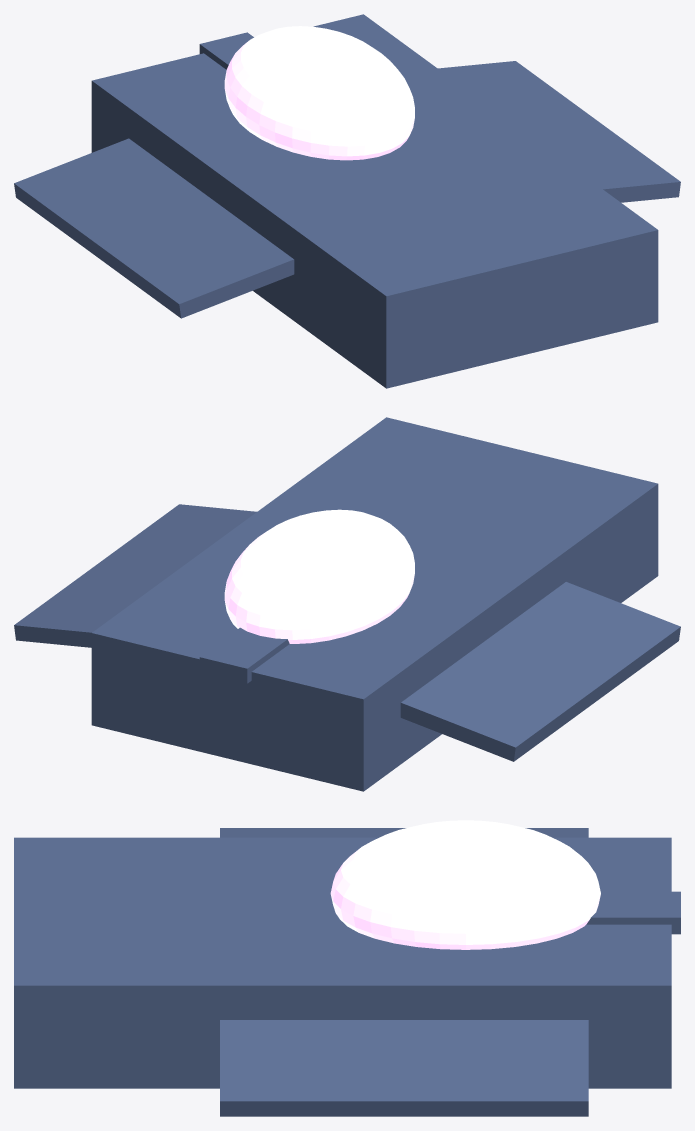
The model's file is scout_t3.glb.
The picture shows the model from 3 angles, top to bottom: view 1: azimuth 30°, elevation 25°; view 2: azimuth 150°, elevation 25°; view 3: azimuth 270°, elevation 25°; orthographic projection. The views are drawn at different scales.
Visible parts, largest first — view 1: Cube, Cube.002, Sphere, Cube.001, Cube.003; view 2: Cube, Cube.002, Sphere, Cube.001, Cube.003; view 3: Cube, Cube.001, Sphere, Cube.003, Cube.002.
Boxes of the visible parts, x1=… form: Cube: x1=91, y1=14, x2=658, y2=388; Cube.002: x1=14, y1=138, x2=294, y2=318; Sphere: x1=224, y1=26, x2=414, y2=160; Cube.001: x1=438, y1=61, x2=680, y2=202; Cube.003: x1=199, y1=32, x2=253, y2=69; Cube: x1=91, y1=417, x2=658, y2=791; Cube.002: x1=400, y1=582, x2=680, y2=761; Sphere: x1=224, y1=509, x2=414, y2=643; Cube.001: x1=14, y1=504, x2=256, y2=647; Cube.003: x1=199, y1=627, x2=289, y2=683; Cube: x1=14, y1=837, x2=671, y2=1088; Cube.001: x1=220, y1=1020, x2=588, y2=1116; Sphere: x1=330, y1=820, x2=600, y2=949; Cube.003: x1=586, y1=891, x2=680, y2=934; Cube.002: x1=220, y1=828, x2=588, y2=837.
Bounding box in the file's own units: 2.1 × 0.655 × 2.17.
